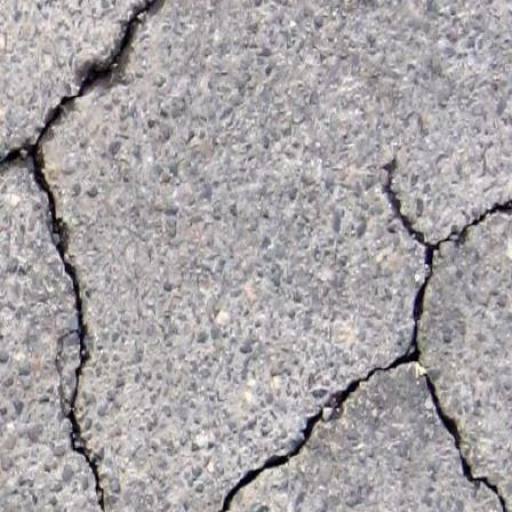spalling: (214, 149, 512, 512), (28, 164, 115, 509), (2, 1, 166, 177)
